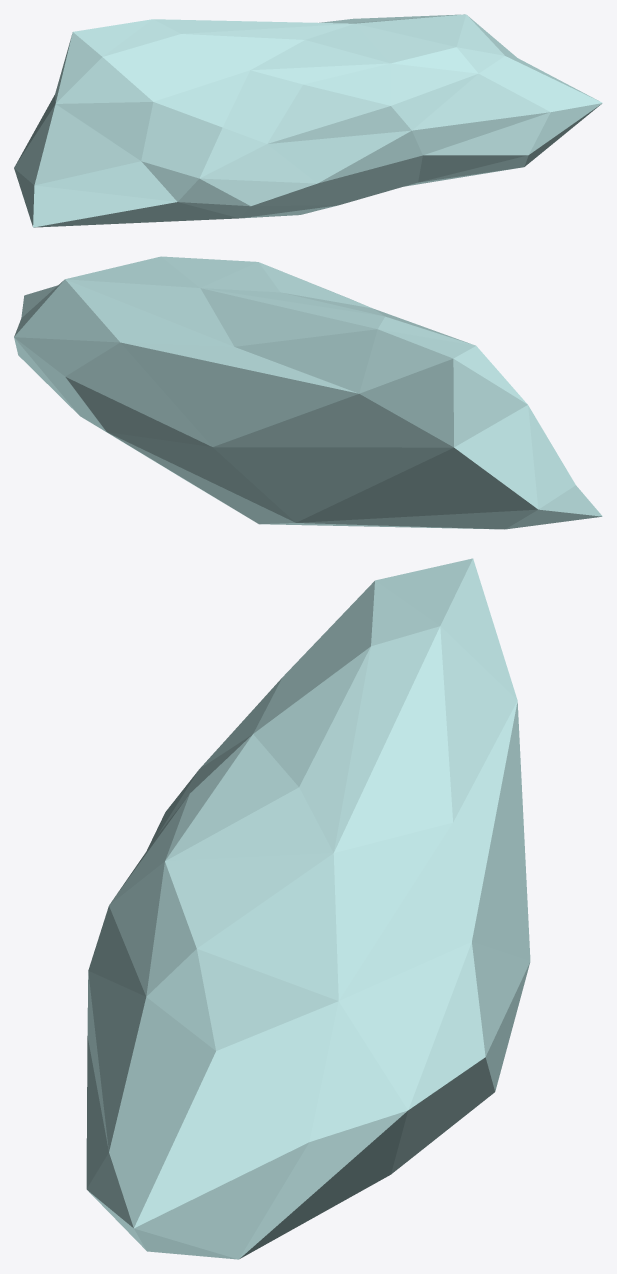
File: cloud-022.glb
The picture shows the model from 3 angles, top to bottom: view 1: azimuth 30°, elevation 25°; view 2: azimuth 150°, elevation 25°; view 3: azimuth 270°, elevation 25°; orthographic projection. The views are drawn at different scales.
Parts seen in each view (by area): view 1: cloud 17_45; view 2: cloud 17_45; view 3: cloud 17_45.
Part boxes in pixels (left/top/right/bottom): cloud 17_45: left=14, top=14, right=602, bottom=227; cloud 17_45: left=14, top=256, right=602, bottom=529; cloud 17_45: left=86, top=558, right=530, bottom=1259.
Bounding box in the file's own units: 1.97 × 0.6678 × 0.7183.
